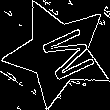M_SW: (25, 21, 92, 84)
